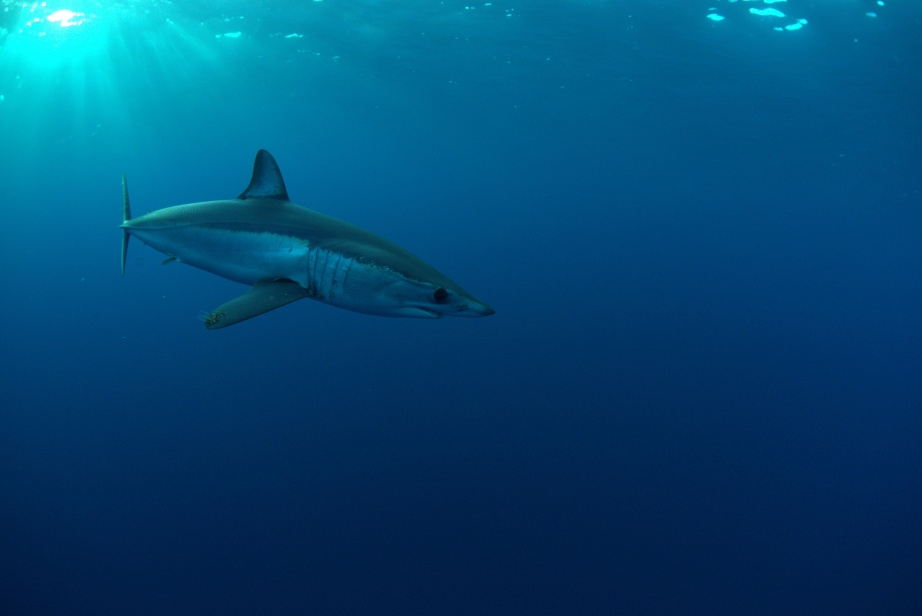Mako: (96, 140, 504, 344)
